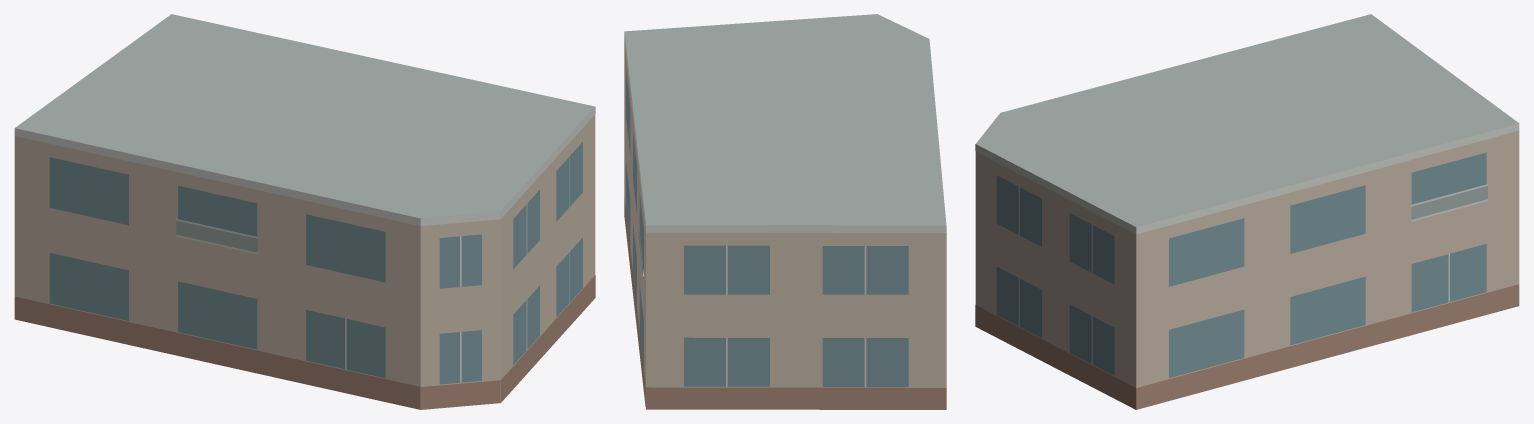
File: survey-upis-33034485.glb
3 views of the same model, side by side, from view 1: azimuth 30°, elevation 25°; view 2: azimuth 150°, elevation 25°; view 3: azimuth 270°, elevation 25° (orthographic). The views are drawn at different scales.
Parts seen in each view (by area): view 1: survey-upis-33034485.tmp; view 2: survey-upis-33034485.tmp; view 3: survey-upis-33034485.tmp.
Part boxes in pixels (x1,y1,x2,y2): survey-upis-33034485.tmp: (14, 14, 595, 409); survey-upis-33034485.tmp: (624, 14, 946, 409); survey-upis-33034485.tmp: (975, 14, 1519, 409).
Size of the model in its own units: 15.27 by 6.1 by 16.47.
